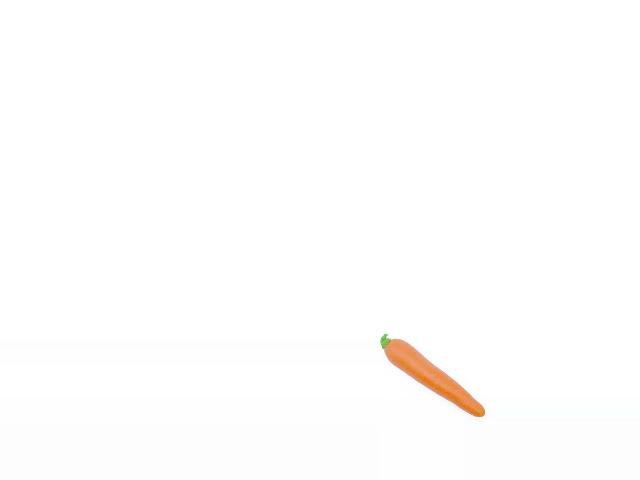carrot: (384, 335, 486, 422)
